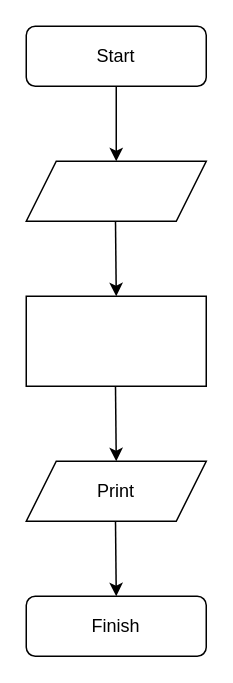
Image size: 233x683. Some labels were removed from this diagram. The shapes that lost their labels are listed below. From the top down, each one's centre as x and y in pixels, then its label:
(x=115, y=190): Int a, b
(x=115, y=340): a = 10 a = 2*a b = a
